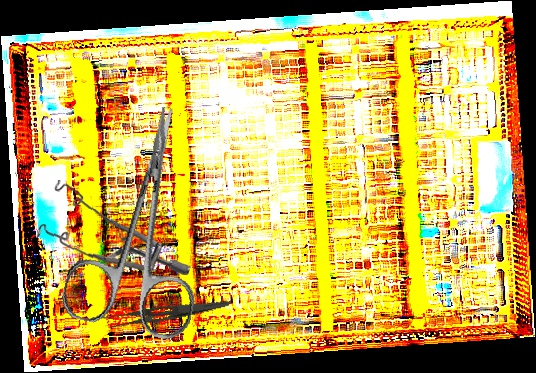Dressing Forceps: (99, 286, 232, 336)
Iris Scissors: (58, 94, 236, 344)
Speculum: (31, 173, 192, 283)
